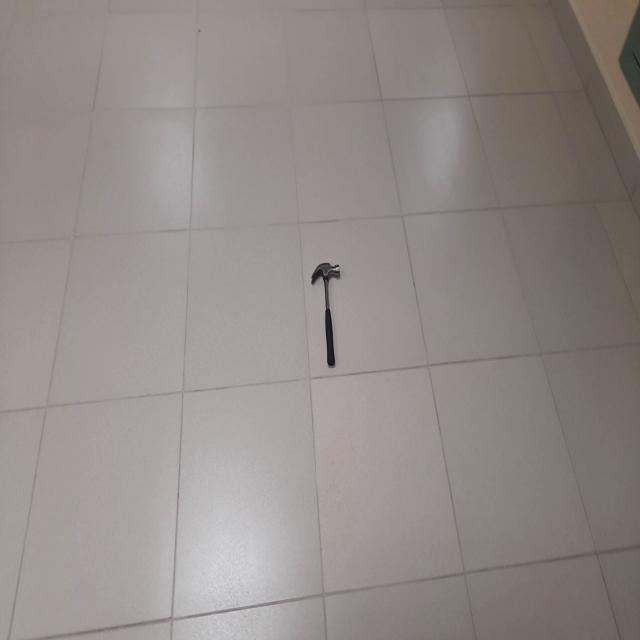hammer: (311, 262, 340, 368)
